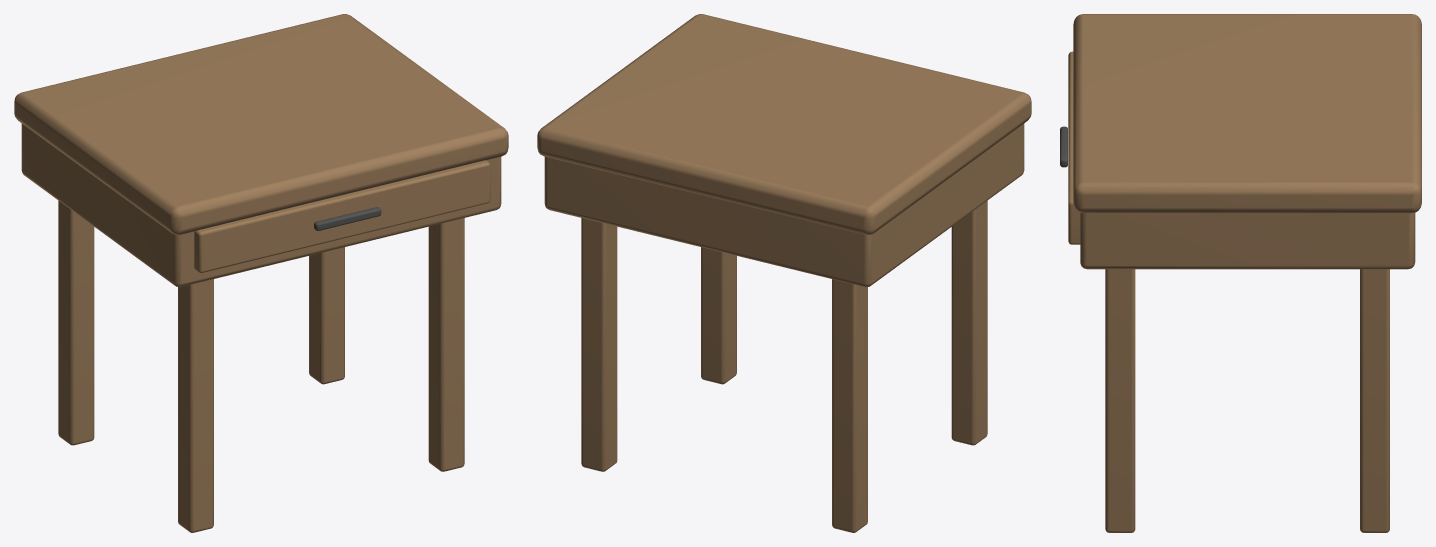
File: BedsideTable.fbx
3 views of the same model, side by side, from view 1: azimuth 30°, elevation 25°; view 2: azimuth 150°, elevation 25°; view 3: azimuth 270°, elevation 25° (orthographic). The views are drawn at different scales.
Visible parts, largest first — view 1: BedsideTable; view 2: BedsideTable; view 3: BedsideTable.
Part boxes in pixels (<box>): BedsideTable: <box>14,14,508,532</box>; BedsideTable: <box>537,14,1031,532</box>; BedsideTable: <box>1060,14,1421,532</box>.
Size of the model in its own units: 0.62 by 0.6 by 0.54.
